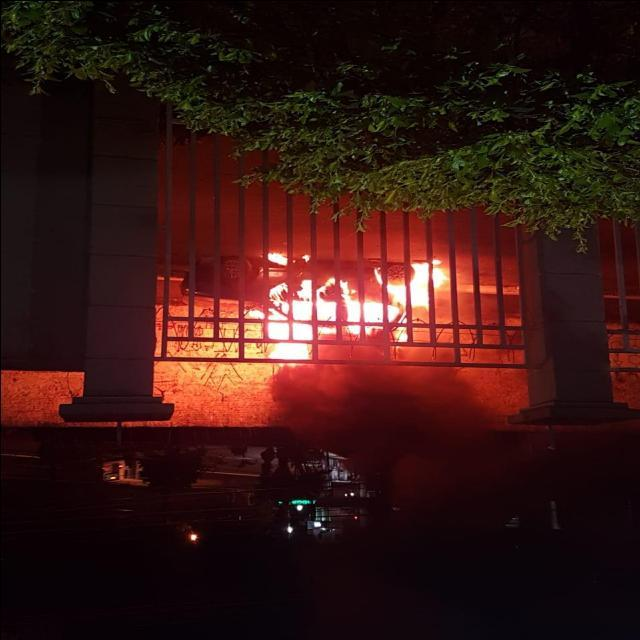Fire: (232, 280, 408, 362), (378, 257, 448, 311), (267, 252, 287, 265), (300, 253, 308, 261)
